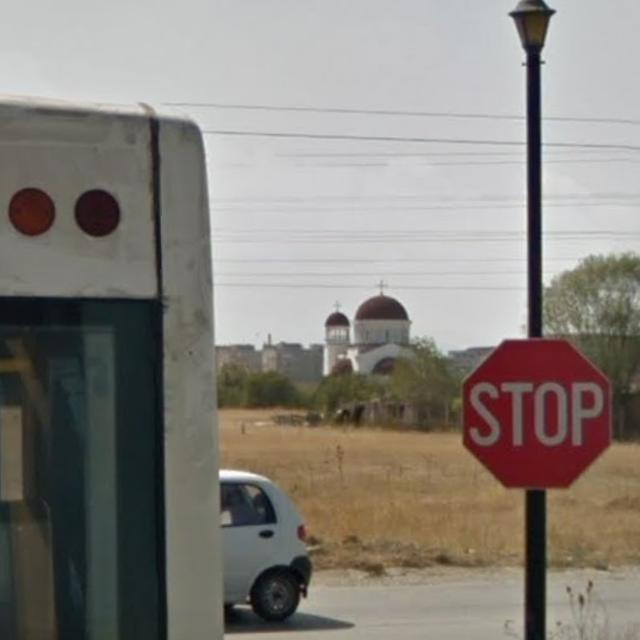prio_stop: (460, 342, 611, 489)
